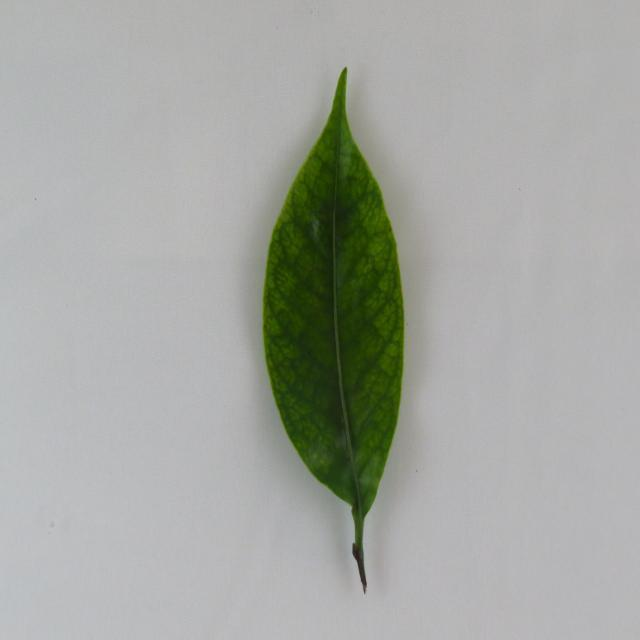DeficienciaNutricional-Manganeso: (264, 68, 404, 593)
